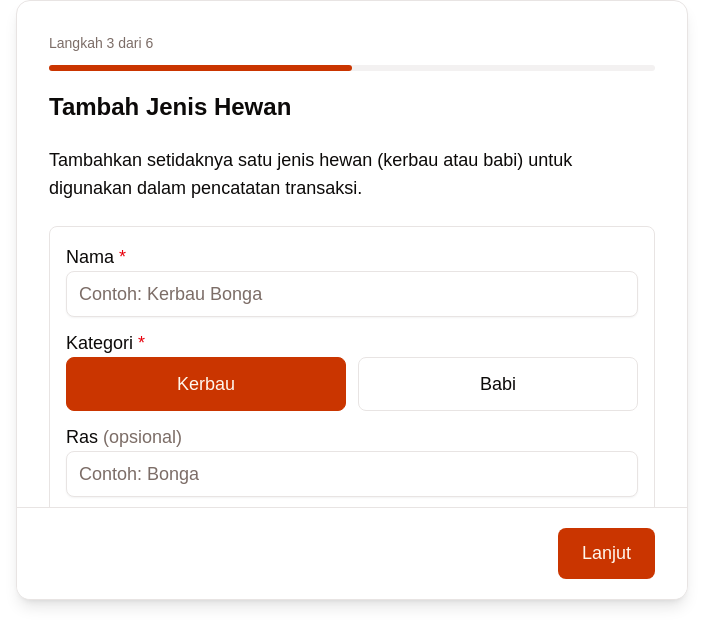
it: AdminStep3AnimalTypes — "Lanjut" gate (Requirement 3.4) › shows an error message when "Lanjut" is clicked with no animal types saved
Click the button "Lanjut": {"x": 606, "y": 554} [558,528,655,579]
(page scrolled)
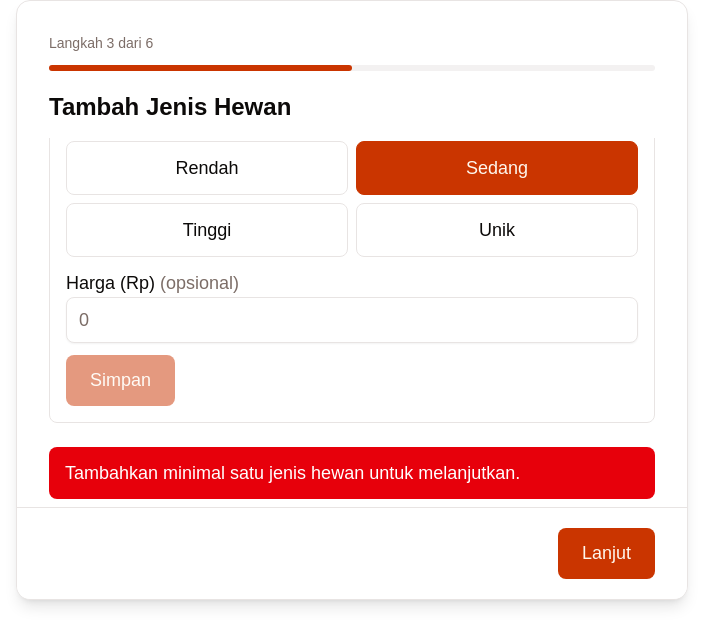
Expected: the text "Tambahkan minimal satu jenis hewan untuk melanjutkan." is shown, [49,447,655,499]
